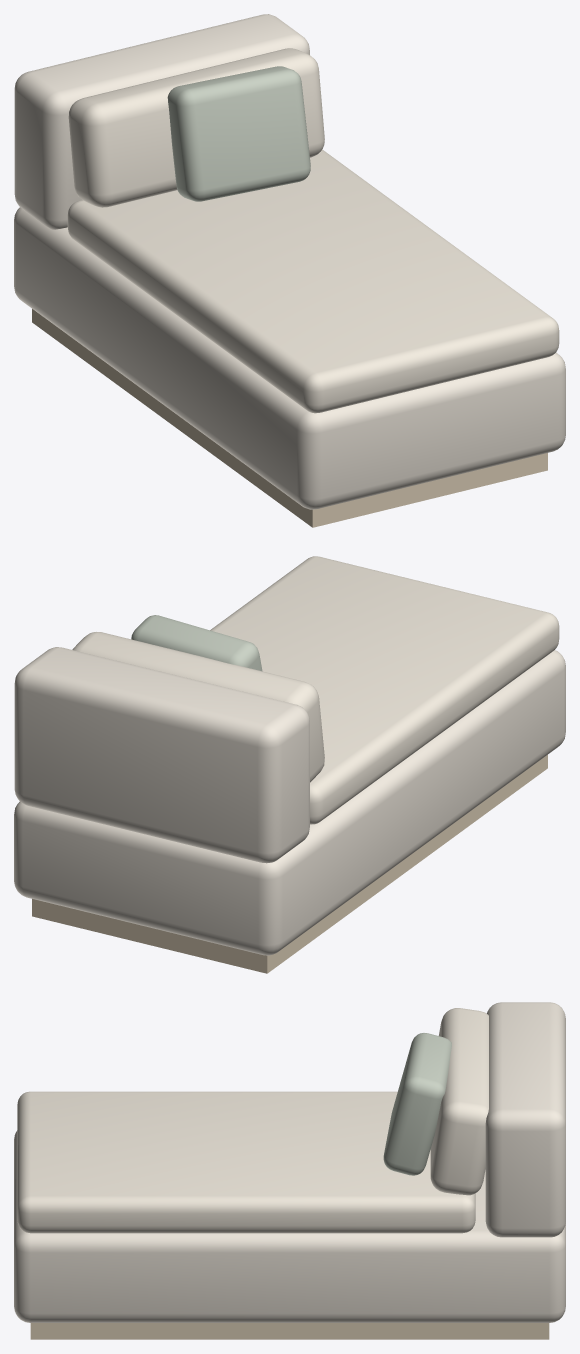
The model's file is mo_chaise.glb.
3 views of the same model, one above another, from view 1: azimuth 30°, elevation 25°; view 2: azimuth 150°, elevation 25°; view 3: azimuth 270°, elevation 25° (orthographic). The views are drawn at different scales.
Parts seen in each view (by area): view 1: seat, body, back, pillow, cush, plinth; view 2: body, back, seat, plinth, cush, pillow; view 3: seat, body, back, plinth, cush, pillow.
Part boxes in pixels (<box>): seat: <box>67,149,559,413</box>; body: <box>14,207,565,509</box>; back: <box>14,14,309,229</box>; pillow: <box>167,66,310,201</box>; cush: <box>68,48,324,207</box>; plinth: <box>32,309,547,527</box>; body: <box>14,650,565,955</box>; back: <box>14,647,309,863</box>; seat: <box>210,556,559,824</box>; plinth: <box>32,755,547,973</box>; cush: <box>72,632,324,782</box>; pillow: <box>131,615,262,671</box>; seat: <box>17,1091,475,1233</box>; body: <box>14,1130,565,1322</box>; back: <box>485,1002,565,1237</box>; plinth: <box>30,1323,549,1339</box>; cush: <box>430,1008,488,1195</box>; pillow: <box>383,1033,451,1175</box>.
Size of the model in its own units: 0.85 by 0.7924 by 1.65.
